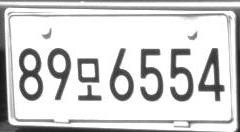4: (197, 47, 225, 102)
5: (168, 47, 194, 102), (139, 48, 163, 101)
6: (109, 47, 134, 102)
8: (18, 47, 43, 101)
9: (47, 47, 71, 101)
모: (76, 57, 102, 101)
